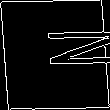N_W: (3, 34, 107, 76)
